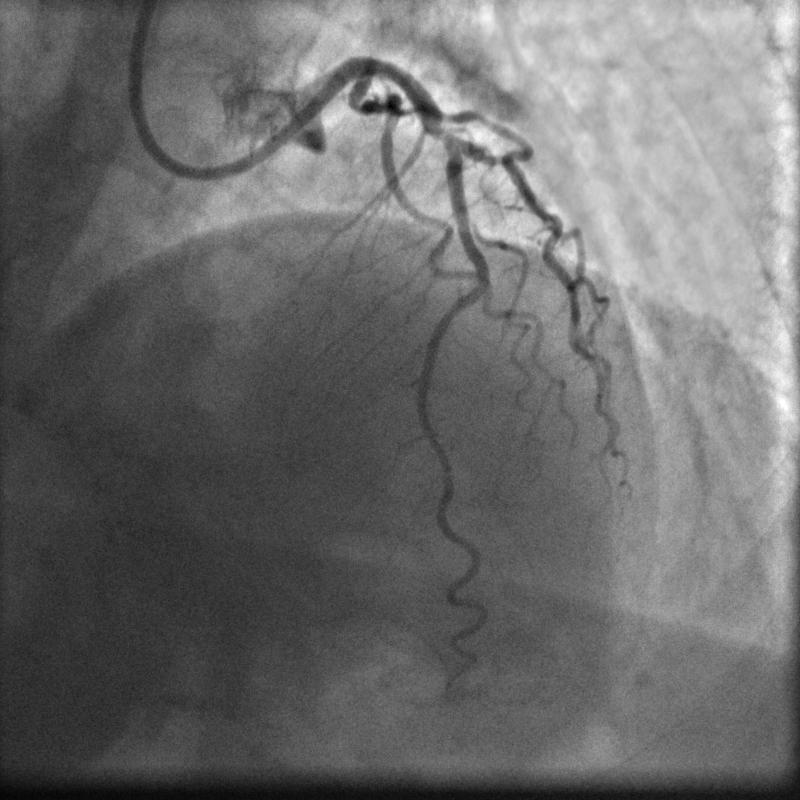Stenosis: (421, 121, 465, 145)
